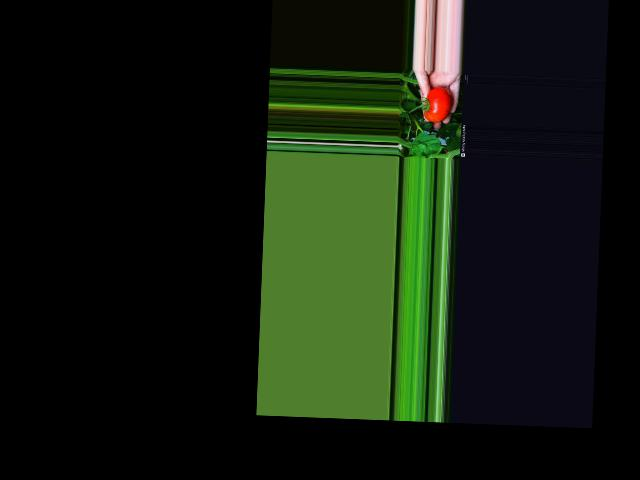tomato: (424, 86, 452, 122)
